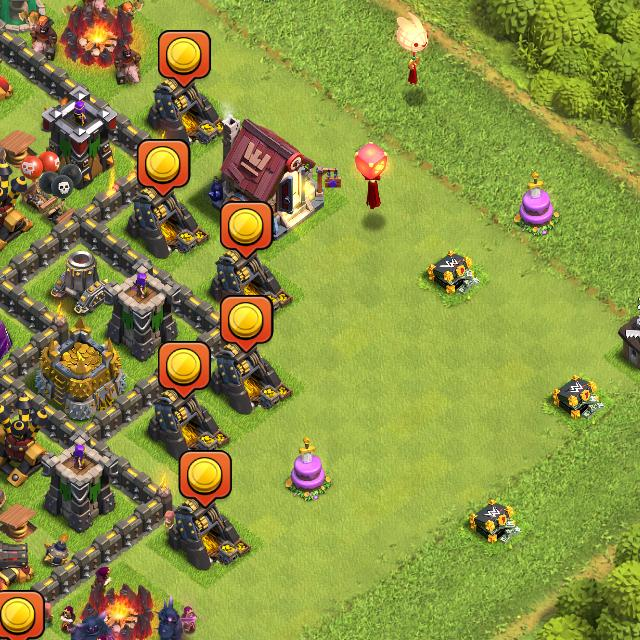FullCoin: (156, 28, 212, 87), (180, 452, 232, 509), (160, 342, 211, 400), (139, 141, 191, 197), (221, 296, 272, 352), (223, 202, 271, 258), (3, 590, 44, 640)
